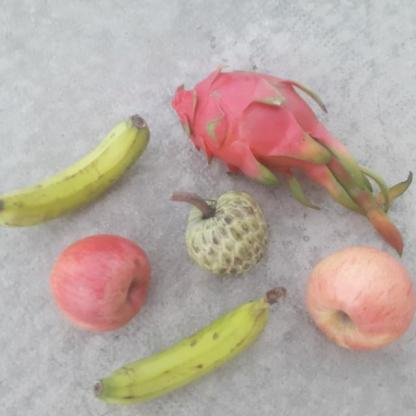annona: (178, 189, 271, 277)
apple: (302, 246, 414, 352), (46, 230, 155, 336)
banana: (86, 285, 286, 410), (0, 113, 152, 229)
pitaya: (167, 66, 326, 194)
